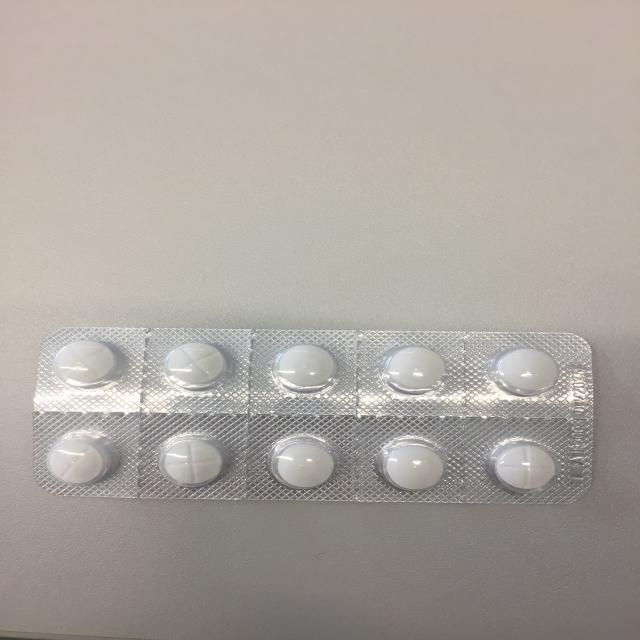Pill: (147, 428, 240, 491), (263, 430, 349, 490), (480, 437, 567, 495), (39, 428, 122, 488), (374, 434, 453, 494), (484, 345, 564, 400), (376, 344, 454, 398), (158, 341, 237, 393), (50, 337, 126, 389), (266, 342, 342, 393)
